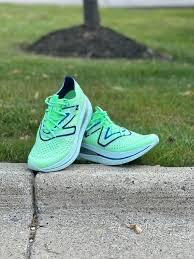NB logo: (53, 100, 82, 144), (87, 117, 124, 150)
